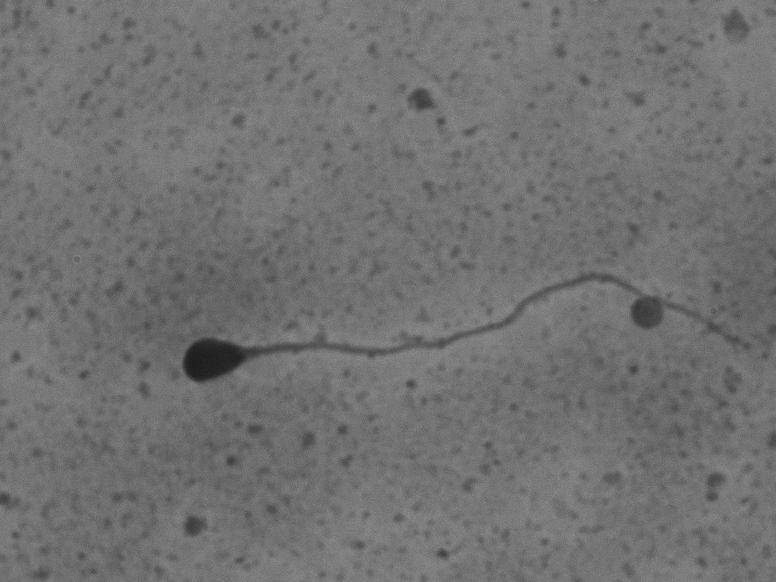Abnormal: (166, 220, 754, 435)
